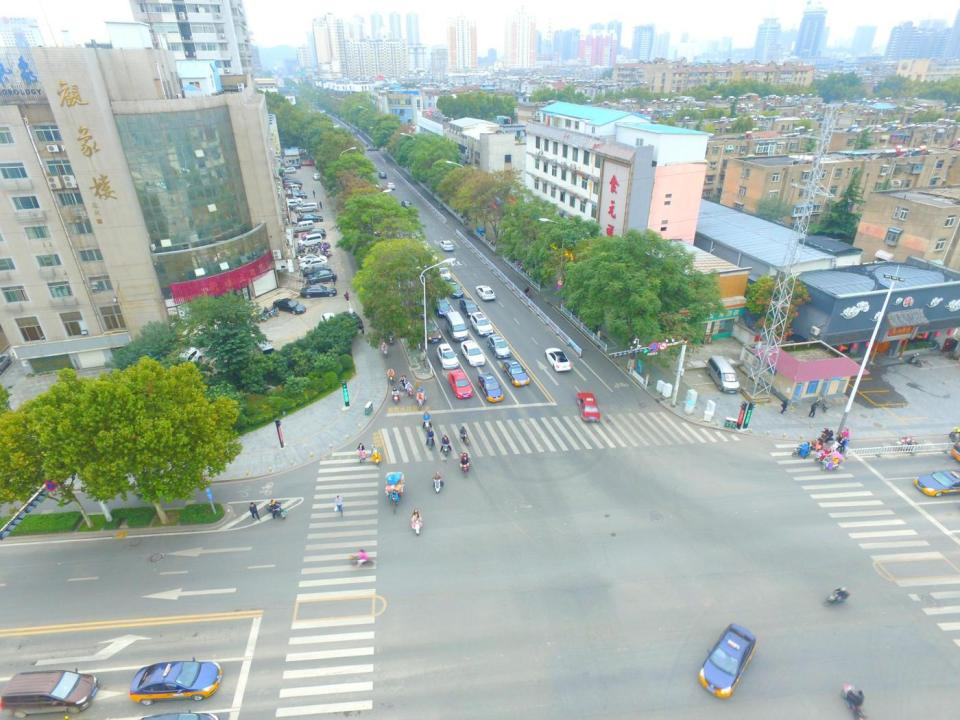car: (695, 619, 757, 701), (131, 656, 224, 706), (162, 344, 202, 384), (246, 333, 281, 364), (575, 391, 602, 424), (478, 371, 504, 402), (448, 368, 474, 398), (502, 358, 529, 386), (544, 347, 574, 372), (460, 339, 486, 367), (273, 294, 306, 314), (487, 333, 512, 359), (470, 312, 494, 336), (437, 344, 461, 368), (342, 307, 364, 333), (366, 210, 387, 236), (319, 312, 339, 338), (422, 318, 442, 342), (299, 286, 337, 298), (459, 298, 480, 318), (433, 295, 452, 317), (307, 270, 339, 283), (408, 299, 429, 318), (396, 267, 414, 289), (474, 283, 495, 301), (299, 259, 326, 272), (304, 265, 333, 277), (297, 254, 328, 265), (446, 280, 464, 298), (297, 213, 323, 224), (302, 228, 327, 239), (296, 202, 318, 213), (436, 264, 451, 280), (438, 239, 455, 251), (280, 200, 304, 208), (291, 202, 312, 210), (282, 182, 301, 190), (282, 176, 300, 183), (286, 192, 307, 198), (282, 196, 302, 202), (400, 200, 413, 209), (284, 179, 302, 185), (286, 198, 304, 204), (286, 190, 305, 195), (369, 180, 379, 189), (284, 164, 302, 169), (301, 160, 315, 166), (366, 146, 379, 152), (386, 182, 395, 190), (312, 173, 322, 180), (378, 171, 387, 178)
van: (1, 655, 100, 718), (703, 352, 742, 396), (444, 310, 470, 340), (294, 219, 315, 233), (299, 235, 323, 247), (283, 184, 300, 192), (283, 166, 298, 174)
